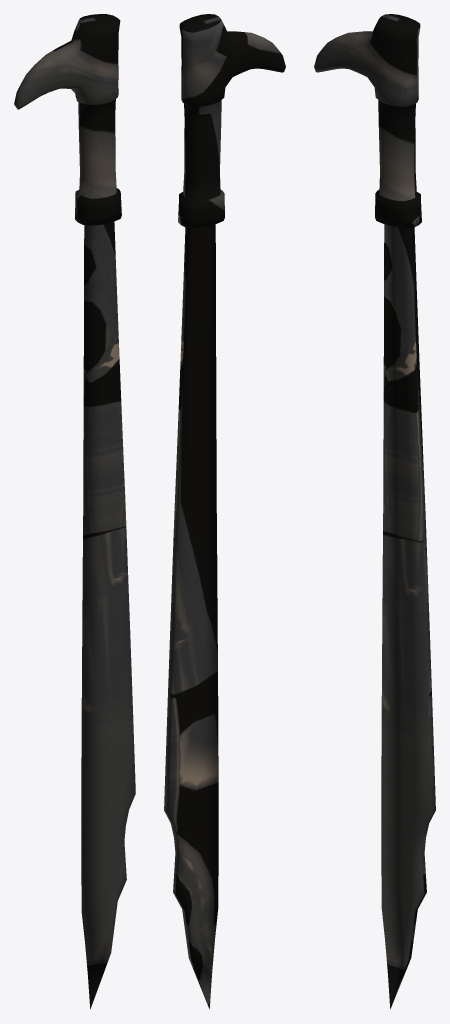
The model's file is SM_sword.fbx.
3 views of the same model, side by side, from view 1: azimuth 30°, elevation 25°; view 2: azimuth 210°, elevation 25°; view 3: azimuth 330°, elevation 25° (orthographic).
Parts seen in each view (by area): view 1: SM_sword.002; view 2: SM_sword.002; view 3: SM_sword.002.
Part boxes in pixels (x1,y1,x2,y2): SM_sword.002: (14, 14, 135, 1008); SM_sword.002: (164, 14, 285, 1008); SM_sword.002: (314, 14, 435, 1008).
Bounding box in the file's own units: 11.45 × 91.2 × 3.32.
